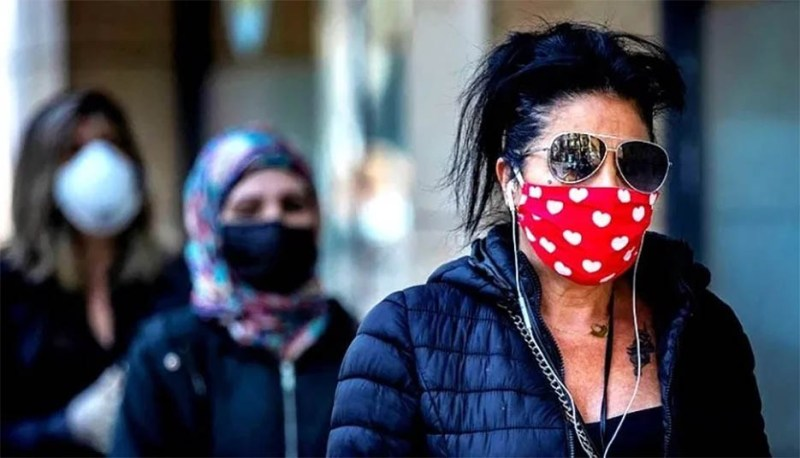with_mask: (465, 39, 693, 295), (186, 129, 343, 327), (8, 94, 159, 272)
